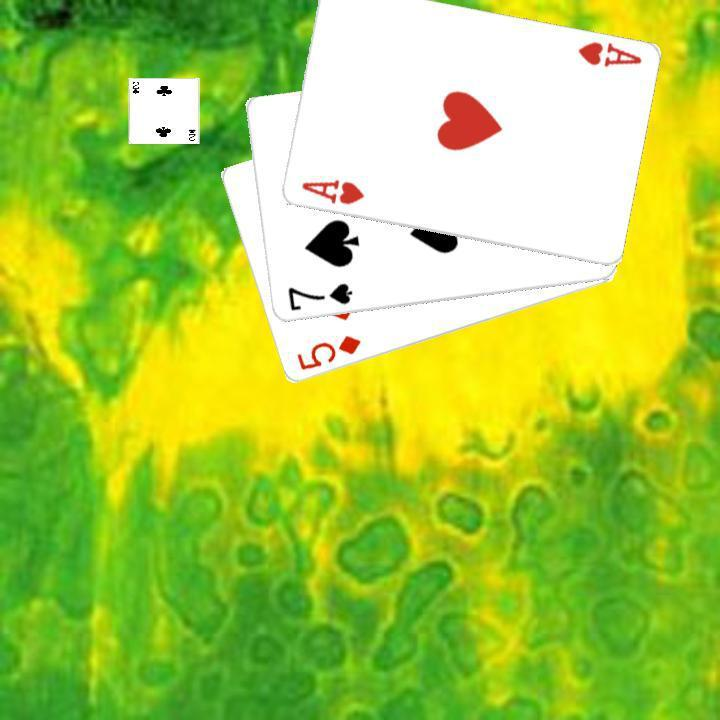5: (292, 331, 363, 373)
7: (283, 279, 354, 314)
A: (573, 37, 643, 70), (297, 175, 366, 207)
